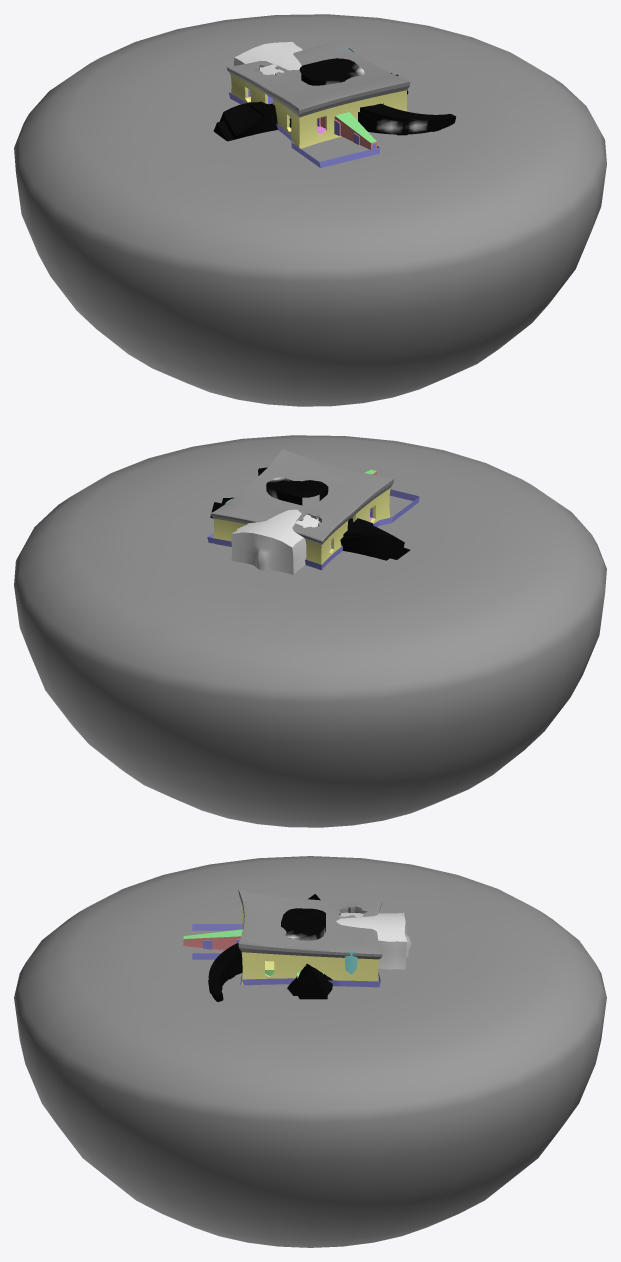
Rendered from Map.fbx.
3 views of the same model, one above another, from view 1: azimuth 30°, elevation 25°; view 2: azimuth 150°, elevation 25°; view 3: azimuth 270°, elevation 25° (orthographic).
Visible parts, largest first — view 1: SM_WitchHouseSkyDome, SM_WitchHouseB, SM_WitchHouseDressRoom, SM_WitchHouseHallwayTwist, SM_WitchHouseTiltRoom, SM_WitchHouseHallwayZoom, SM_WitchHouseA; view 2: SM_WitchHouseSkyDome, SM_WitchHouseB, SM_WitchHouseTiltRoom, SM_WitchHouseHallwayTwist, SM_WitchHouseDressRoom, SM_WitchHouseA; view 3: SM_WitchHouseSkyDome, SM_WitchHouseB, SM_WitchHouseDressRoom, SM_WitchHouseTiltRoom, SM_WitchHouseA, SM_WitchHouseHallwayTwist, SM_WitchHouseHallwayZoom.
Boxes of the visible parts, <box> form: SM_WitchHouseSkyDome: <box>14,14,606,406</box>; SM_WitchHouseB: <box>227,39,410,148</box>; SM_WitchHouseDressRoom: <box>299,58,455,135</box>; SM_WitchHouseHallwayTwist: <box>213,73,408,141</box>; SM_WitchHouseTiltRoom: <box>234,42,302,96</box>; SM_WitchHouseHallwayZoom: <box>317,112,376,149</box>; SM_WitchHouseA: <box>228,47,382,167</box>; SM_WitchHouseSkyDome: <box>14,435,606,827</box>; SM_WitchHouseB: <box>210,449,394,564</box>; SM_WitchHouseTiltRoom: <box>231,509,331,574</box>; SM_WitchHouseHallwayTwist: <box>210,497,410,560</box>; SM_WitchHouseDressRoom: <box>258,467,328,505</box>; SM_WitchHouseA: <box>207,489,419,570</box>; SM_WitchHouseSkyDome: <box>14,856,606,1247</box>; SM_WitchHouseB: <box>238,890,382,985</box>; SM_WitchHouseDressRoom: <box>208,908,325,1001</box>; SM_WitchHouseTiltRoom: <box>336,912,411,969</box>; SM_WitchHouseA: <box>192,924,380,987</box>; SM_WitchHouseHallwayTwist: <box>287,894,332,999</box>; SM_WitchHouseHallwayZoom: <box>183,929,242,950</box>.
Size of what is drawn, in the model's own units: 8847 by 4998 by 8847.
